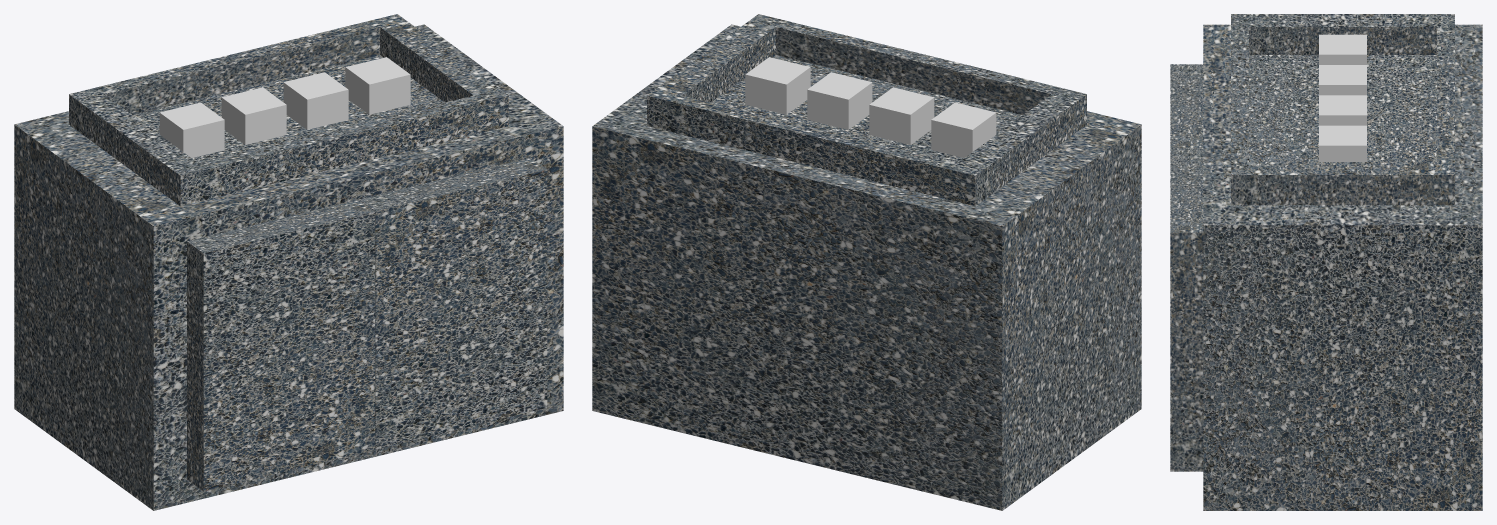
Rendered from Forja.fbx.
The picture shows the model from 3 angles, left to right: view 1: azimuth 30°, elevation 25°; view 2: azimuth 150°, elevation 25°; view 3: azimuth 270°, elevation 25°; orthographic projection.
Visible parts, largest first — view 1: Cube.002, Cube.003, Cube.004, Cube.005; view 2: Cube.002, Cube.005; view 3: Cube.002, Cube.004, Cube.005, Cube.003.
Boxes of the visible parts, bbox=[...] form: Cube.002: bbox=[14, 14, 563, 510]; Cube.003: bbox=[187, 199, 374, 491]; Cube.004: bbox=[359, 157, 547, 449]; Cube.005: bbox=[159, 57, 410, 157]; Cube.002: bbox=[592, 14, 1141, 510]; Cube.005: bbox=[745, 57, 996, 157]; Cube.002: bbox=[1203, 14, 1482, 510]; Cube.004: bbox=[1170, 148, 1203, 471]; Cube.005: bbox=[1319, 34, 1366, 161]; Cube.003: bbox=[1170, 64, 1203, 148].
Size of the model in its own units: 593 by 438 by 390.
